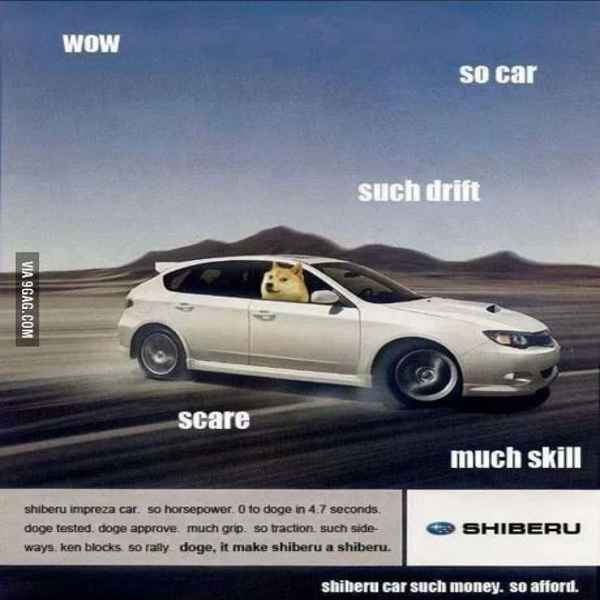doge: (256, 258, 313, 308)
